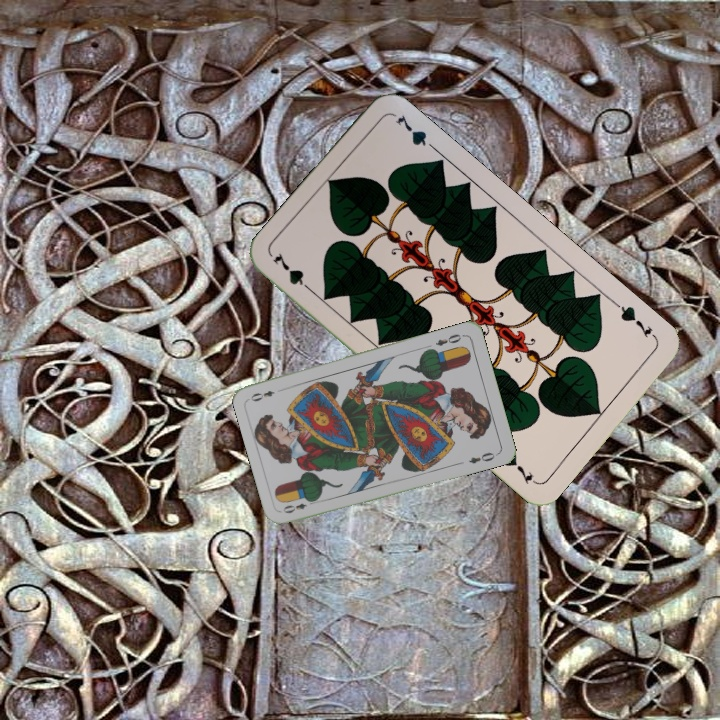EO: (279, 496, 318, 516), (432, 330, 467, 349)
G7: (269, 248, 317, 297), (611, 298, 660, 343)
